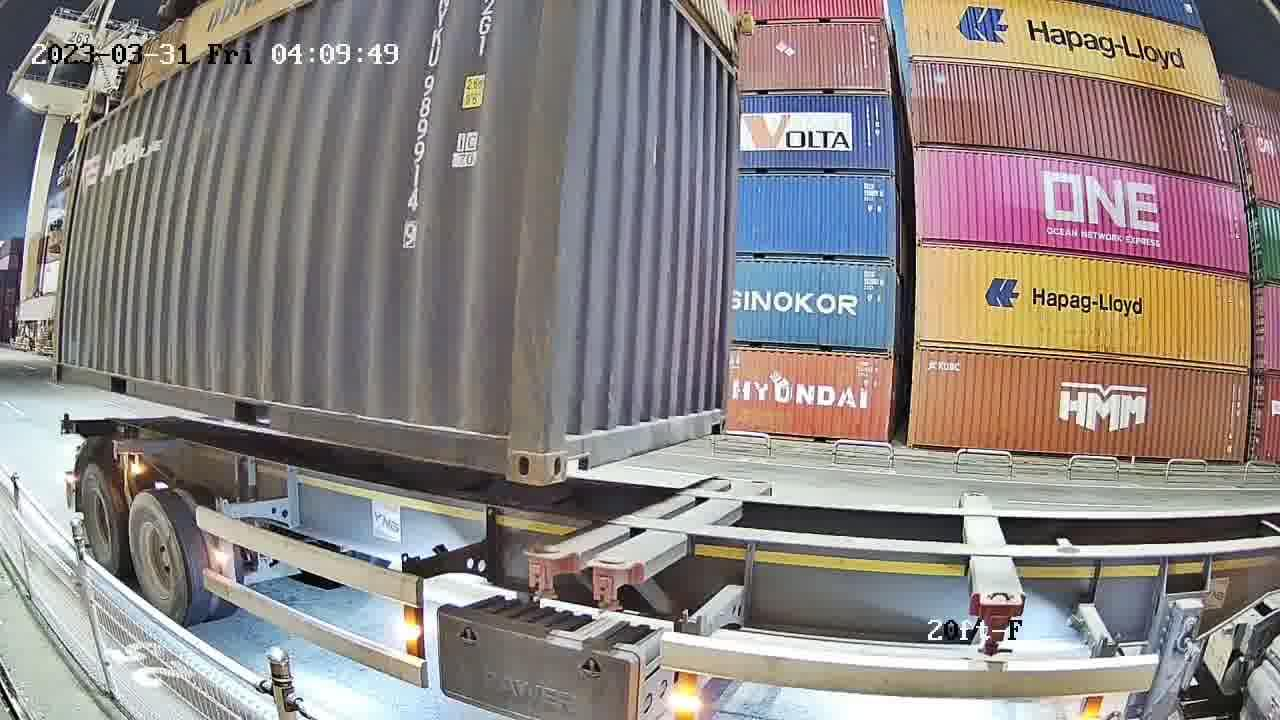Chassis: (528, 478, 734, 559), (593, 481, 771, 570)
Cone: (521, 545, 579, 606), (588, 558, 645, 620)
Hole_L: (544, 414, 597, 485)
Hole_R: (472, 410, 546, 485), (701, 395, 729, 436)
Tire: (130, 496, 189, 628), (80, 464, 122, 575)
